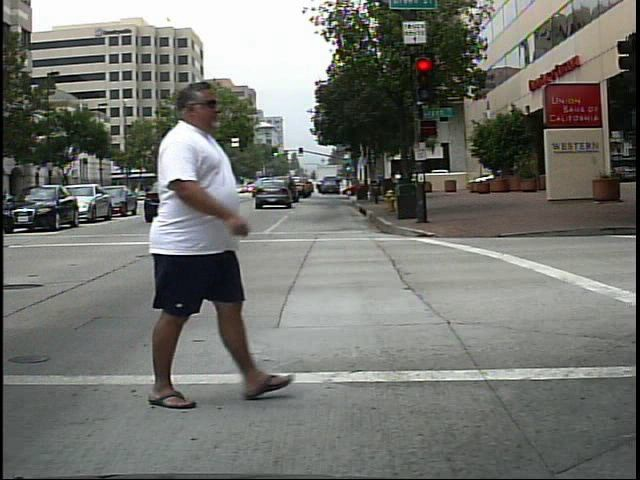person: (104, 78, 275, 413)
